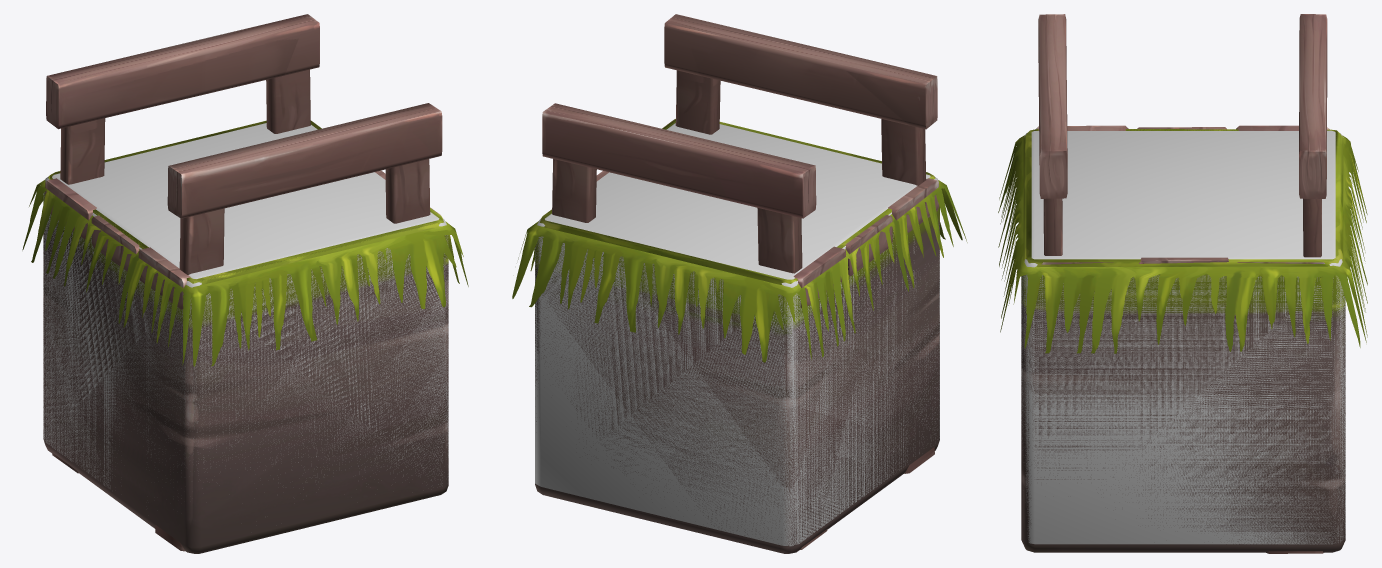
File: Terrain_Cubes.fbx
The picture shows the model from 3 angles, left to right: view 1: azimuth 30°, elevation 25°; view 2: azimuth 150°, elevation 25°; view 3: azimuth 270°, elevation 25°; orthographic projection. The views are drawn at different scales.
Visible parts, largest first — view 1: Grass_02, Bridge, Cliff, Grass_01, Sand; view 2: Sand, Grass_02, Cliff, Bridge, Grass_01; view 3: Sand, Grass_02, Grass_01, Cliff, Bridge.
Boxes of the visible parts, bbox=[...] form: Grass_02: bbox=[43, 120, 448, 553]; Bridge: bbox=[45, 14, 442, 551]; Cliff: bbox=[44, 123, 448, 489]; Grass_01: bbox=[22, 176, 468, 543]; Sand: bbox=[43, 123, 448, 488]; Sand: bbox=[535, 123, 939, 546]; Grass_02: bbox=[535, 119, 939, 553]; Cliff: bbox=[535, 125, 939, 545]; Bridge: bbox=[542, 14, 939, 549]; Grass_01: bbox=[512, 180, 967, 362]; Sand: bbox=[1021, 130, 1345, 544]; Grass_02: bbox=[1021, 129, 1345, 552]; Grass_01: bbox=[998, 129, 1367, 541]; Cliff: bbox=[1022, 131, 1345, 544]; Bridge: bbox=[1036, 14, 1329, 553].
Size of the model in its own units: 1.14 by 1.38 by 1.14.
